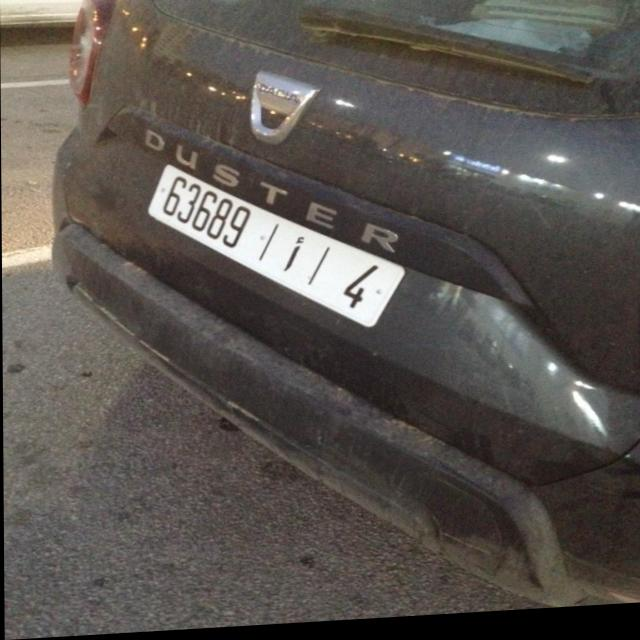License-Plate: (150, 167, 403, 331)
